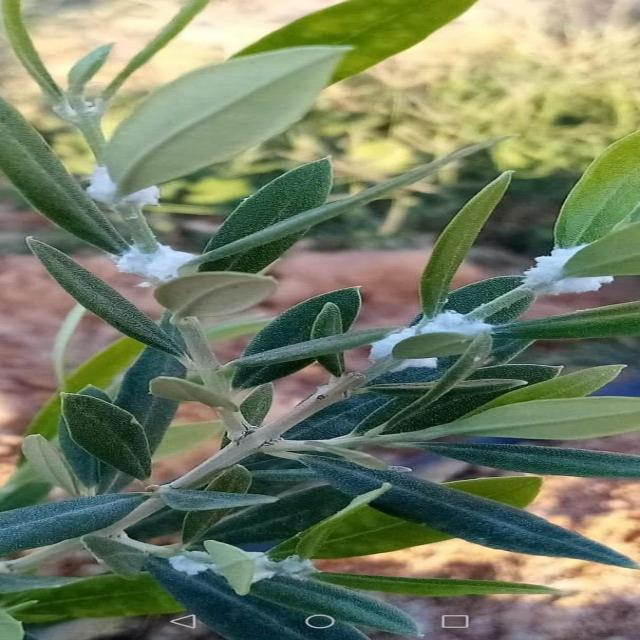Psyllid: (495, 222, 639, 312), (167, 540, 318, 596), (368, 310, 494, 372), (110, 240, 200, 286), (87, 166, 158, 221)
